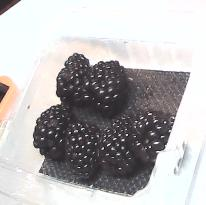berry: (81, 61, 127, 116), (99, 115, 137, 176), (128, 111, 170, 162), (33, 104, 71, 160), (65, 122, 100, 178), (56, 53, 90, 103)
